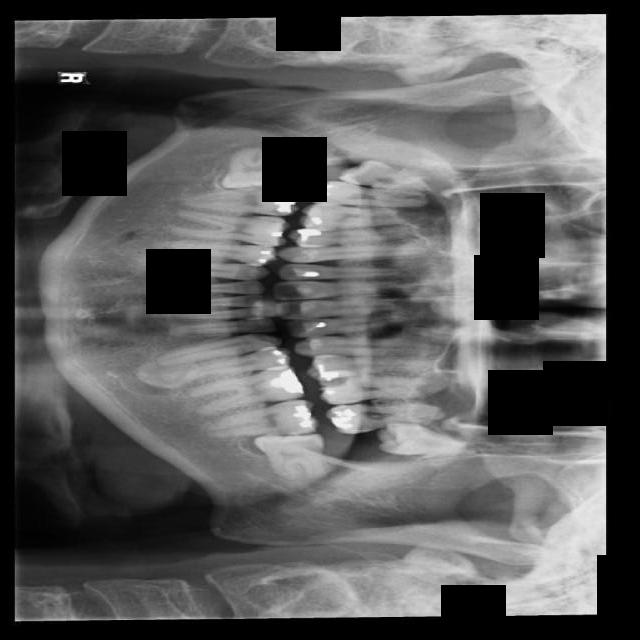3M ESPE Implant: (336, 155, 428, 195)
52: (315, 364, 373, 407), (268, 396, 318, 440), (250, 365, 306, 402), (248, 182, 300, 218), (305, 176, 358, 210), (240, 215, 290, 248), (274, 297, 337, 322), (298, 200, 344, 234), (271, 277, 336, 301), (325, 403, 377, 433), (304, 353, 358, 381), (293, 334, 349, 359), (233, 242, 280, 270), (247, 344, 293, 372), (275, 262, 325, 282), (287, 317, 339, 336), (277, 245, 326, 264), (285, 227, 331, 247)
73: (73, 586, 79, 608)
BioHorizons Implant: (324, 399, 444, 435)
BioLife Implant: (371, 423, 474, 457)
Biomet 3i Implant: (250, 430, 325, 482)
Blue Sky Bio Implant: (202, 398, 320, 446)
Caries: (304, 180, 425, 209)
Implant: (179, 183, 302, 224)
Keystone Dental Implant: (218, 143, 292, 192)
